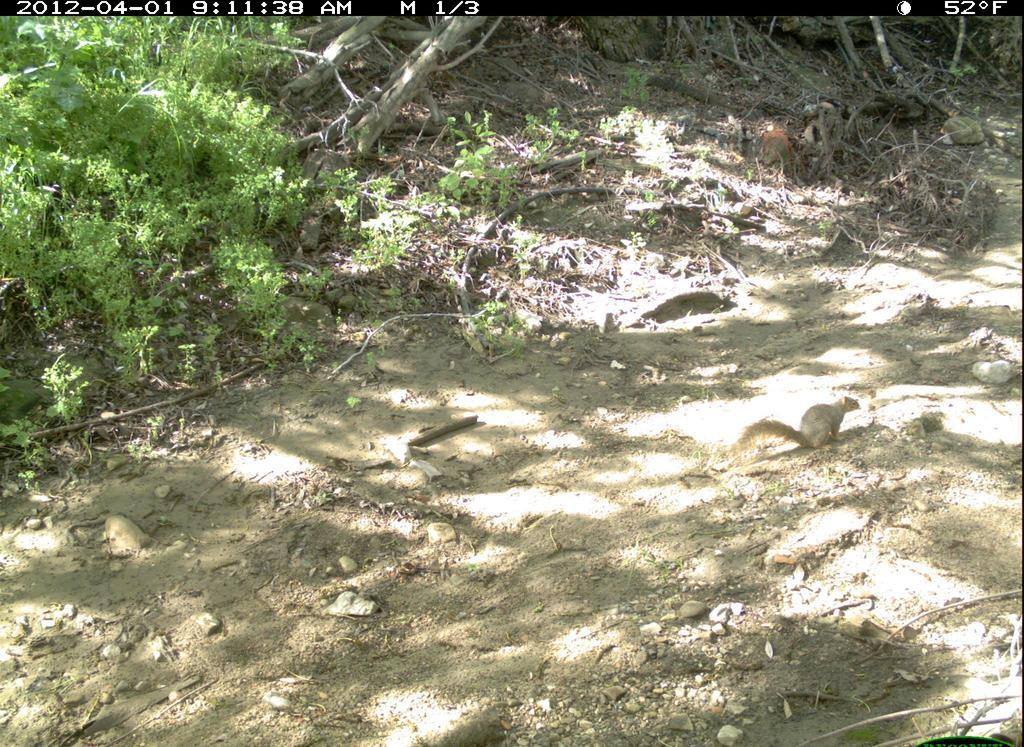squirrel: (733, 390, 866, 463)
